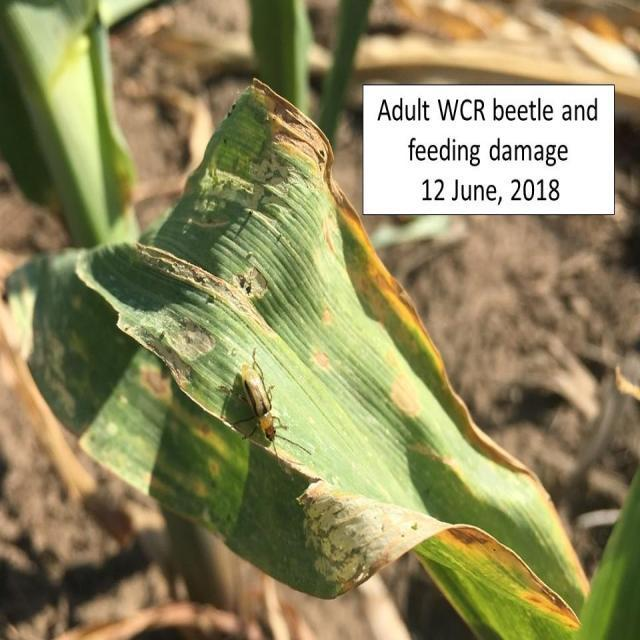trips: (233, 345, 310, 467)
